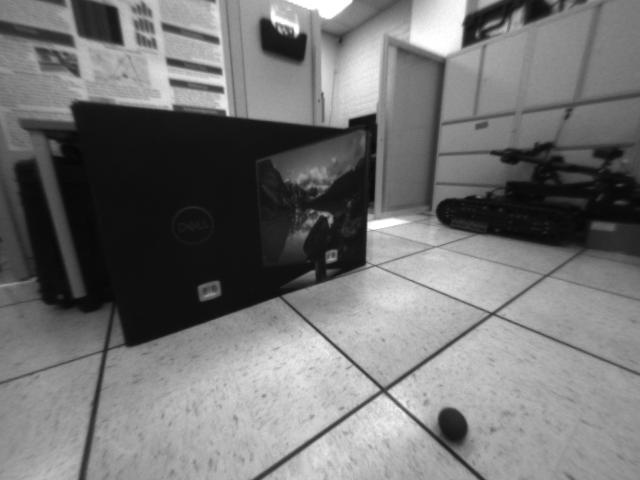dogtoy: (433, 399, 475, 451)
